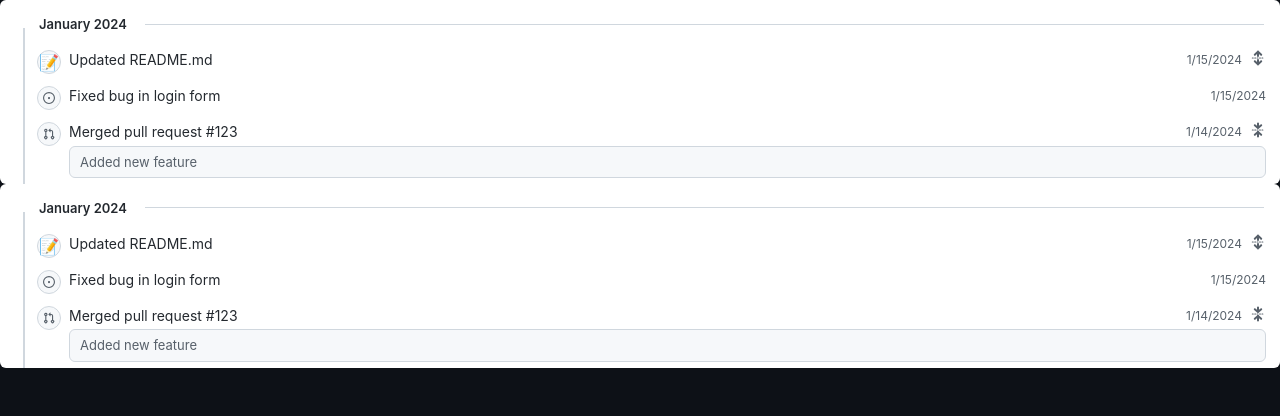
Scenario: UIForgeActivityStream › Expand/collapse functionality › expands event when clicked
The image size is (1280, 416).
Check: the text "Added installation instructions" is not shown
Step 1. Click the 4th button with class "activity-stream__header" → (141, 243), box [69,234,1266,253]
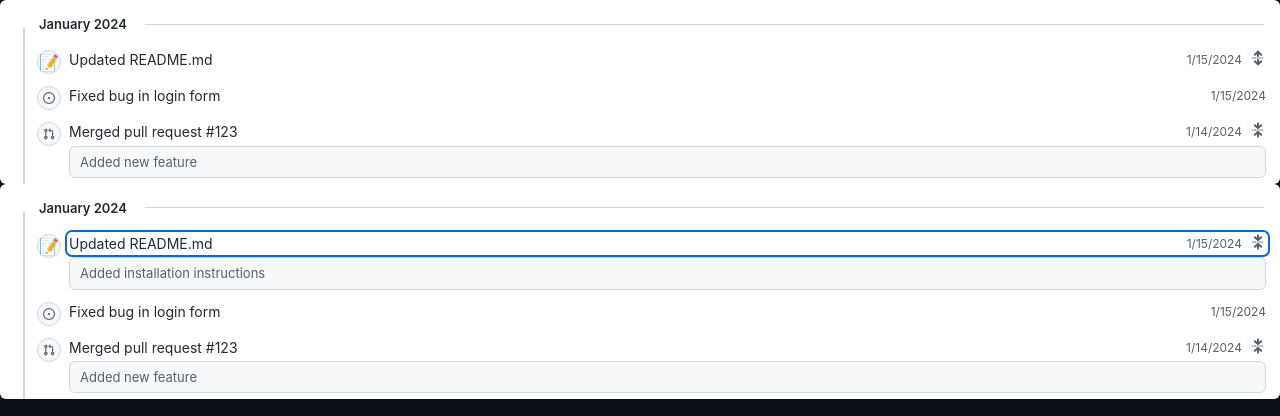
Check: the text "Added installation instructions" is shown, box [69,257,1266,290]
